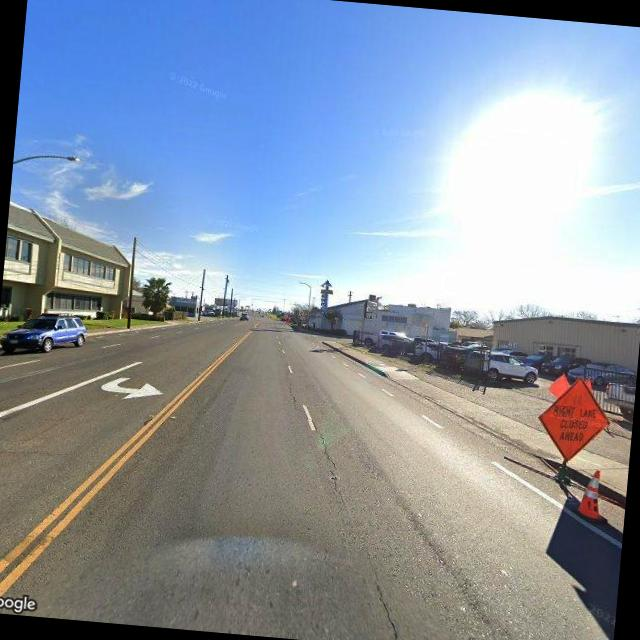crack: (356, 558, 441, 640), (307, 423, 350, 510)
